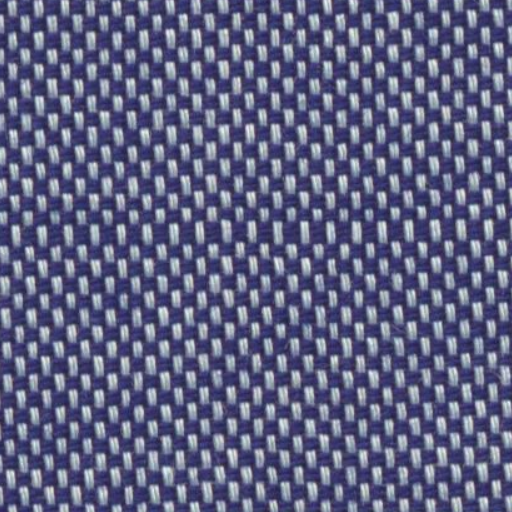TuoSha: (16, 167, 492, 278)
